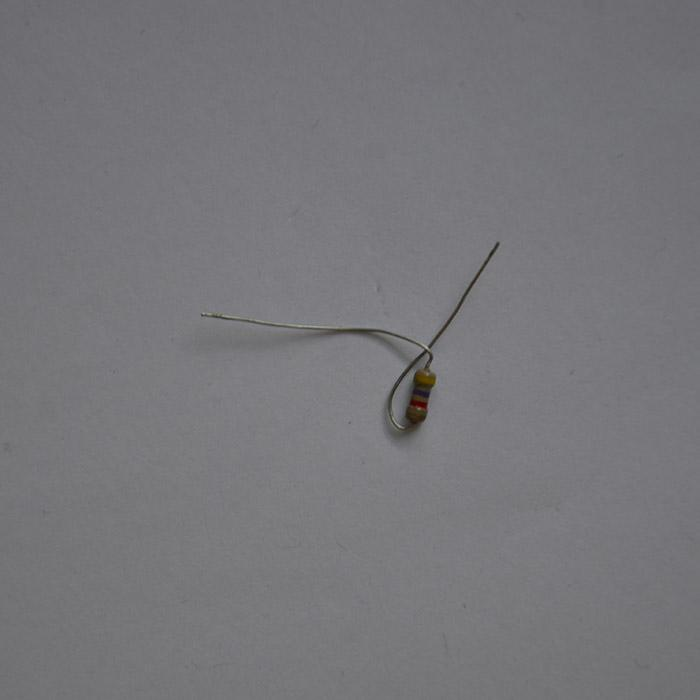resistor: (406, 366, 437, 423)
